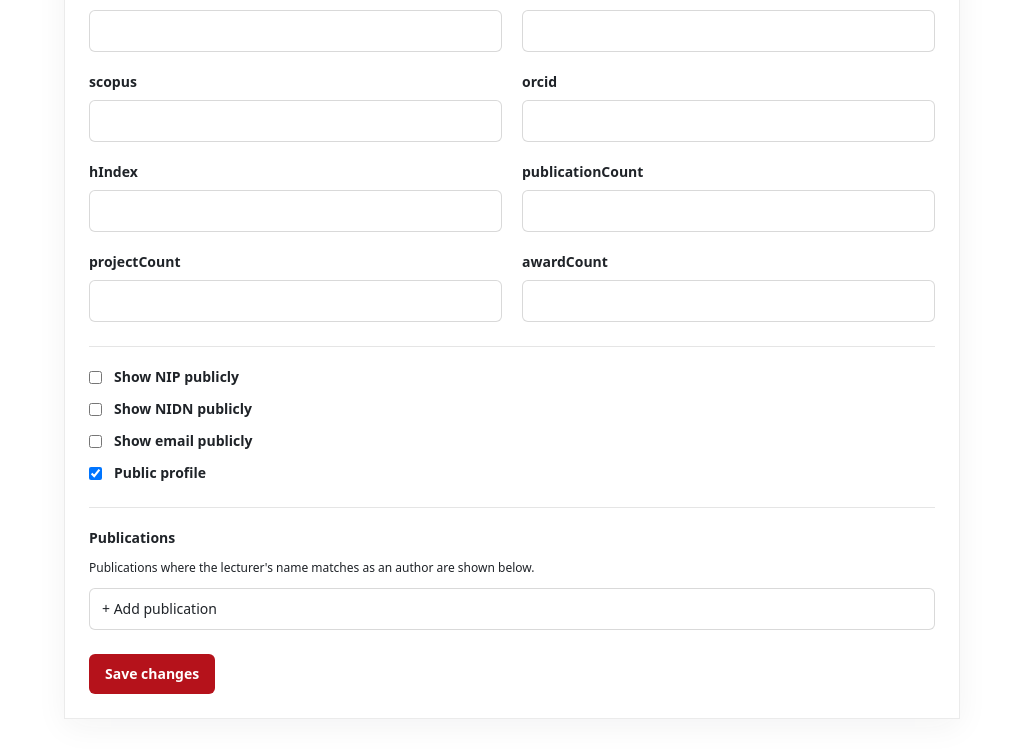
Scenario: admin edit dosen publication matching › adds a matching publication to the selection
The width and height of the screenshot is (1024, 755).
(page scrolled)
Click the button "+ Add publication": [159, 608] box [89,588,935,630]
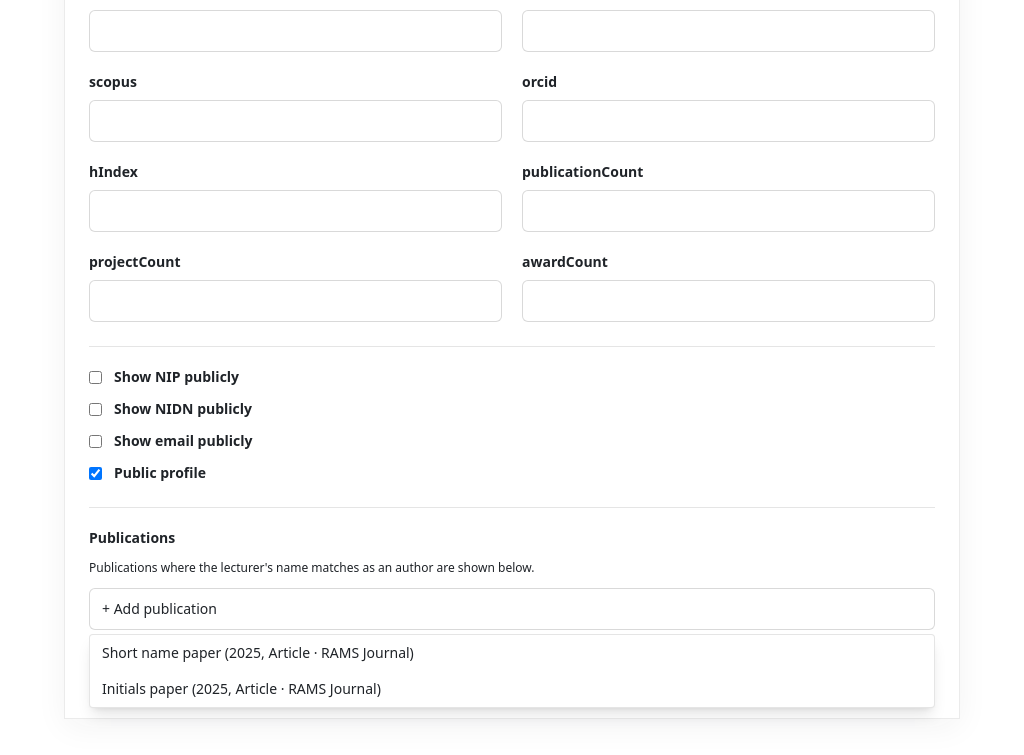
Expected: the list with class "absolute" is shown, [89,634,935,708]
Click the button "Short name paper (2025, Article · RAMS Journal)": [258, 652] box [90,635,934,671]
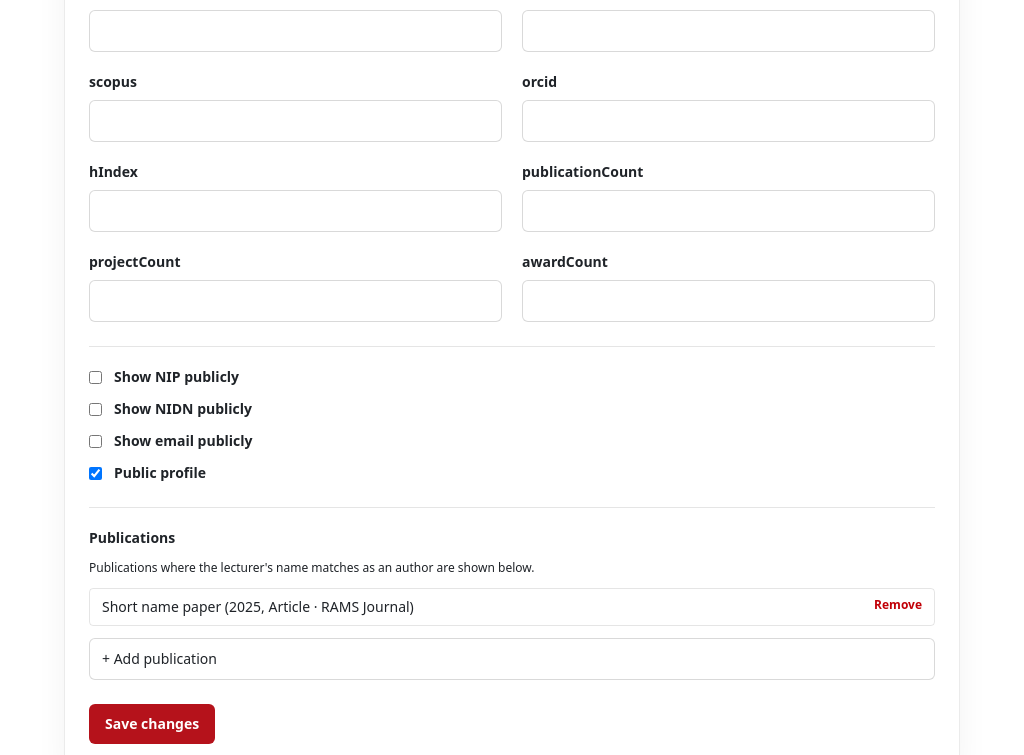
Expected: the list with class "absolute" is gone
Expected: the number of buttons "Remove" is 1, [874,597,922,613]
